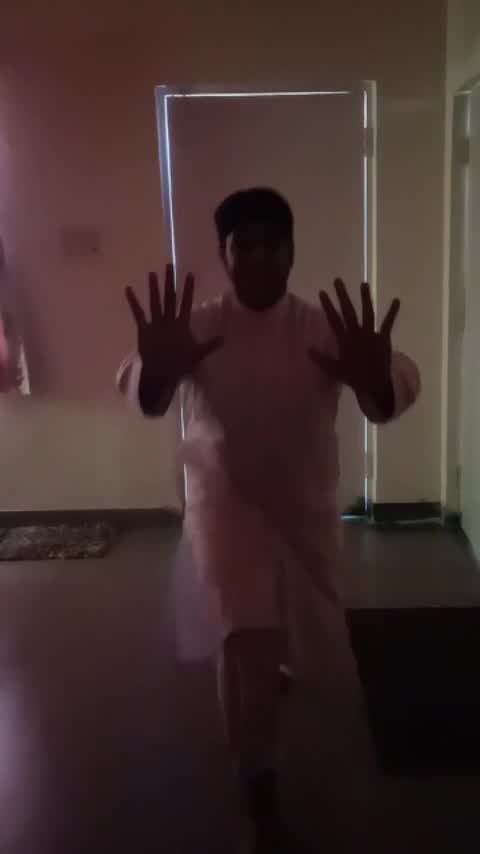duck: (112, 179, 437, 853)
